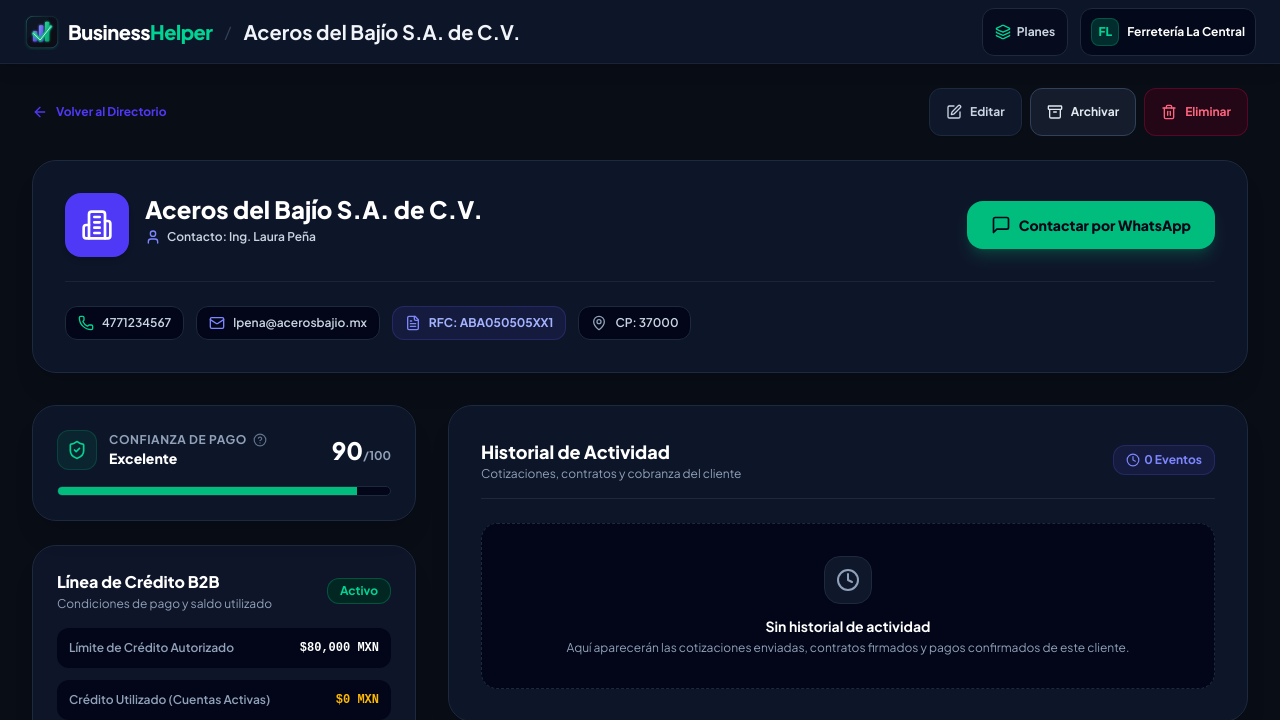
Scenario: deleting a client the schema will not release (#262) › asks with honest copy and surfaces the refusal in the dialog instead of hanging forever
Click the button "Eliminar" at (1196, 112), box [1144,88,1248,136]
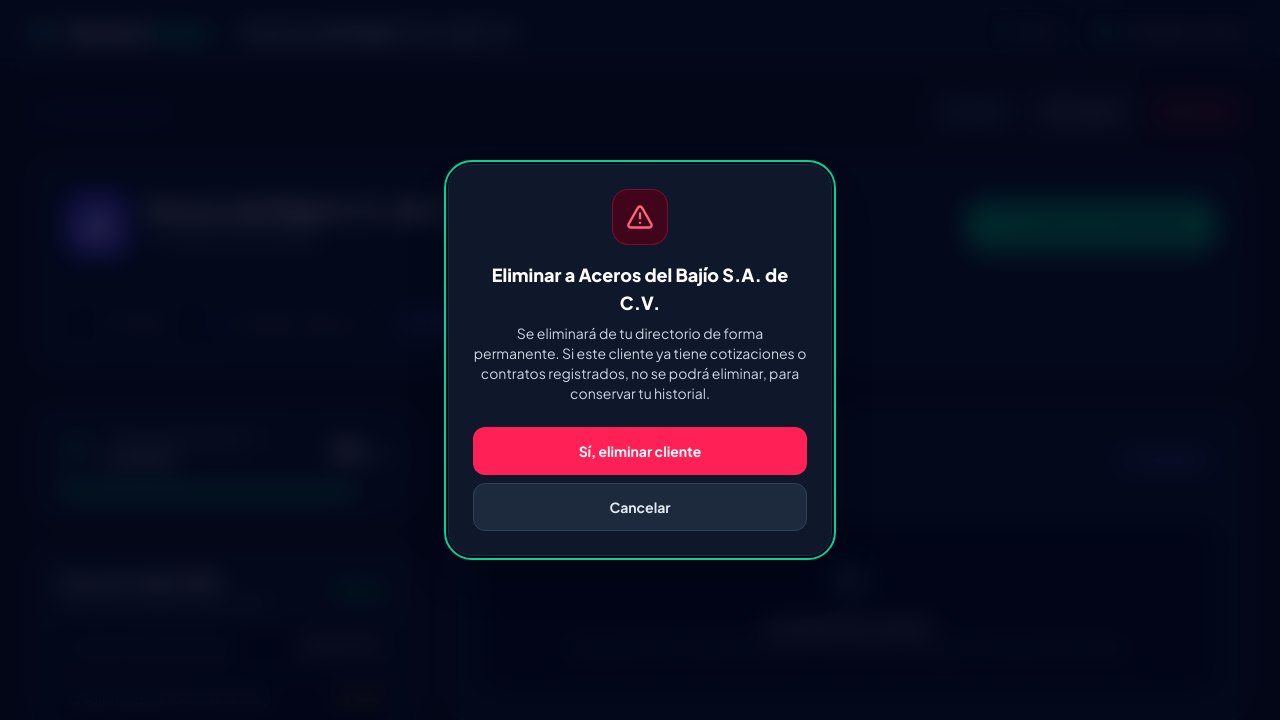
Expected: the text "no se podrá eliminar" is shown, [474,324,806,402]
Click the button "Sí, eliminar cliente" at (640, 451), box [473,427,807,475]
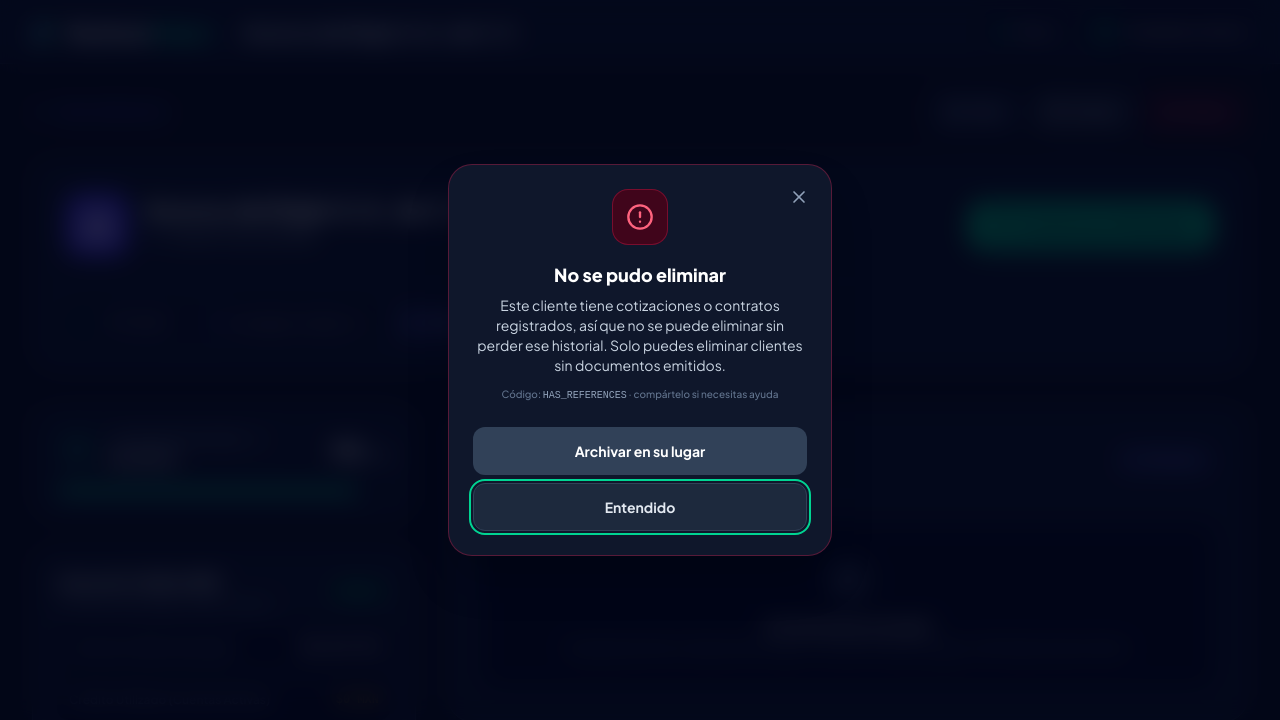
Expected: the text "Solo puedes eliminar clientes sin documentos emitidos" is shown, [477,296,803,374]
